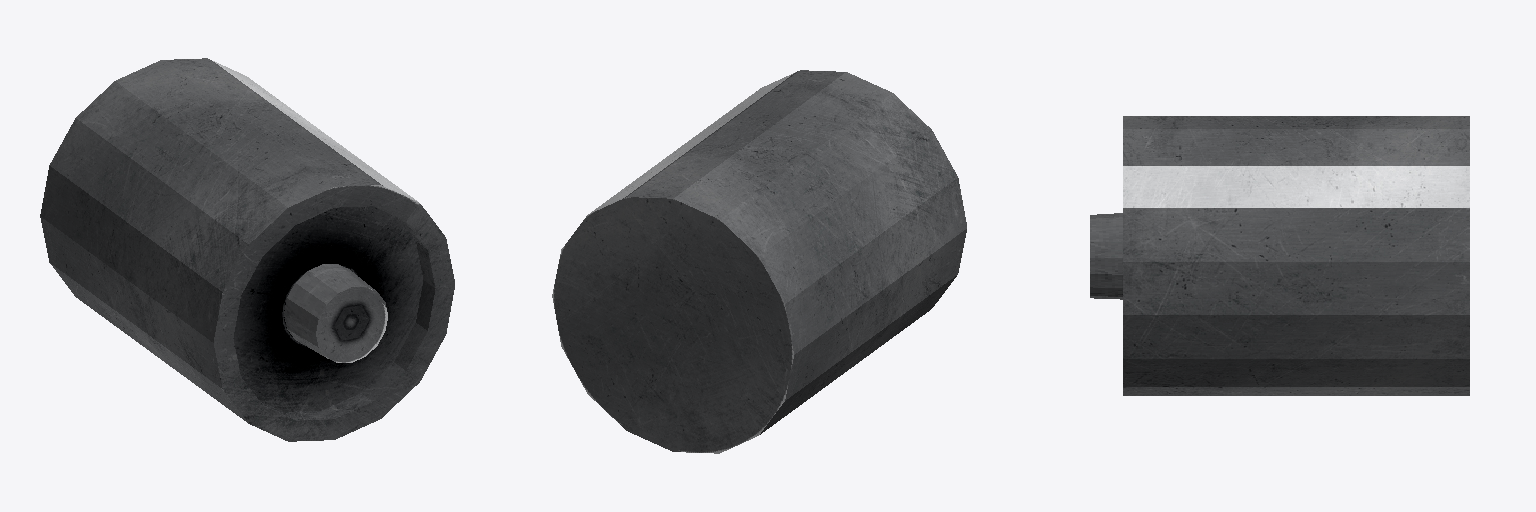
3 views of the same model, side by side, from view 1: azimuth 30°, elevation 25°; view 2: azimuth 150°, elevation 25°; view 3: azimuth 270°, elevation 25° (orthographic).
Parts seen in each view (by area): view 1: lw_Cylinder.013; view 2: lw_Cylinder.013; view 3: lw_Cylinder.013.
Part boxes in pixels (bbox=[...]): lw_Cylinder.013: bbox=[40, 58, 454, 441]; lw_Cylinder.013: bbox=[552, 70, 966, 453]; lw_Cylinder.013: bbox=[1090, 116, 1469, 395].
Size of the model in its own units: 1.2 by 1.2 by 1.63.
Materials: 1 (1 with a texture image).